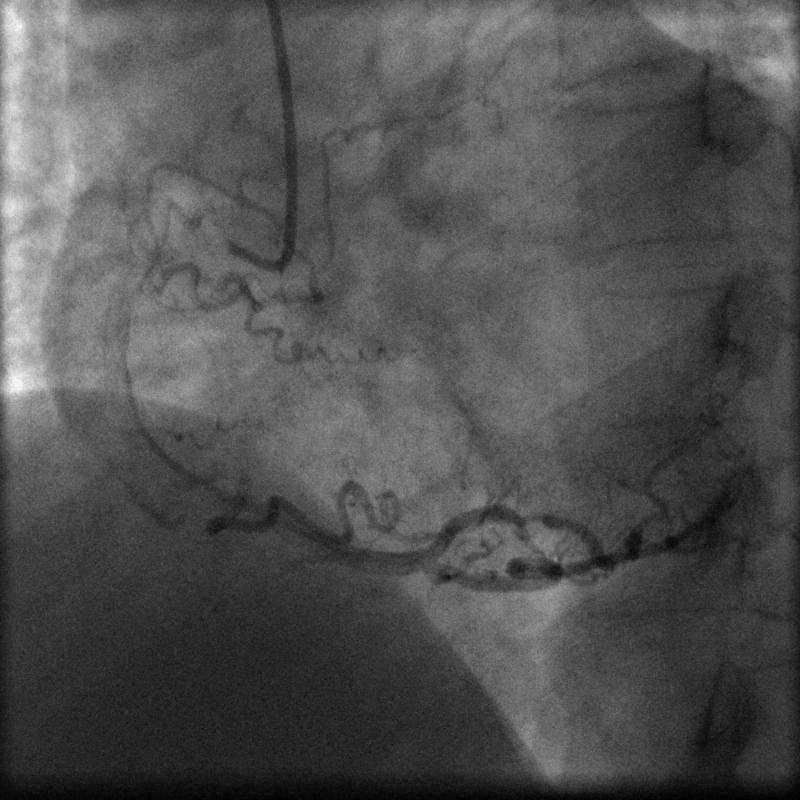Stenosis: (505, 498, 550, 531)
